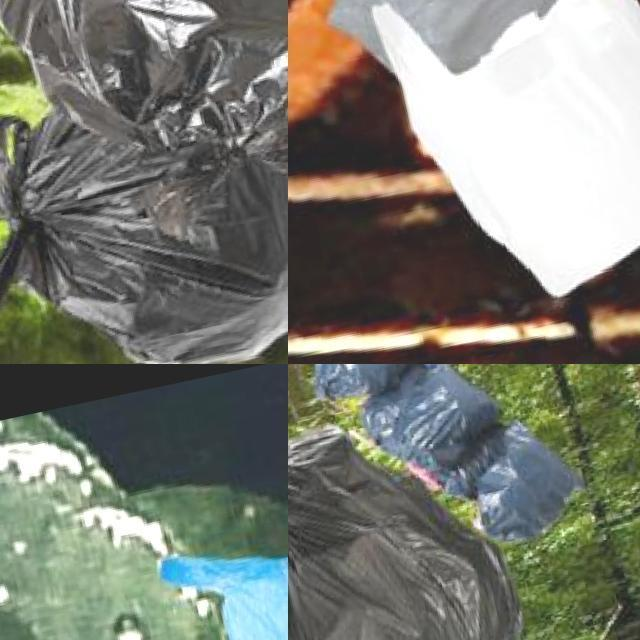waste: (0, 24, 288, 364), (355, 0, 640, 326), (288, 399, 541, 640), (0, 0, 288, 168), (288, 0, 640, 60), (137, 514, 288, 640), (353, 364, 500, 476), (462, 429, 586, 546), (303, 364, 420, 400)
